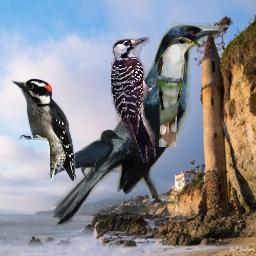Crow: (48, 22, 224, 228), (48, 129, 124, 183)
Cuckoo: (156, 36, 201, 147)
Woodpecker: (11, 78, 77, 181), (111, 37, 156, 163)
